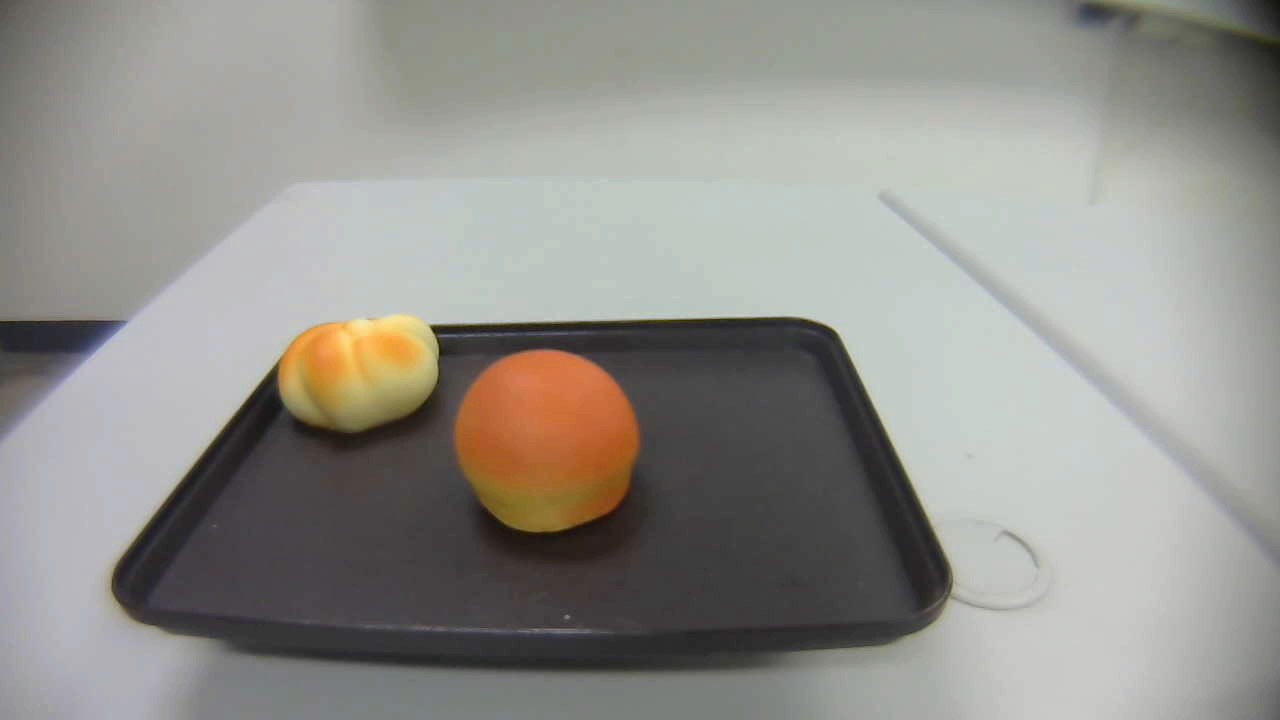bun: (454, 349, 644, 532)
twist bread: (276, 313, 440, 432)
